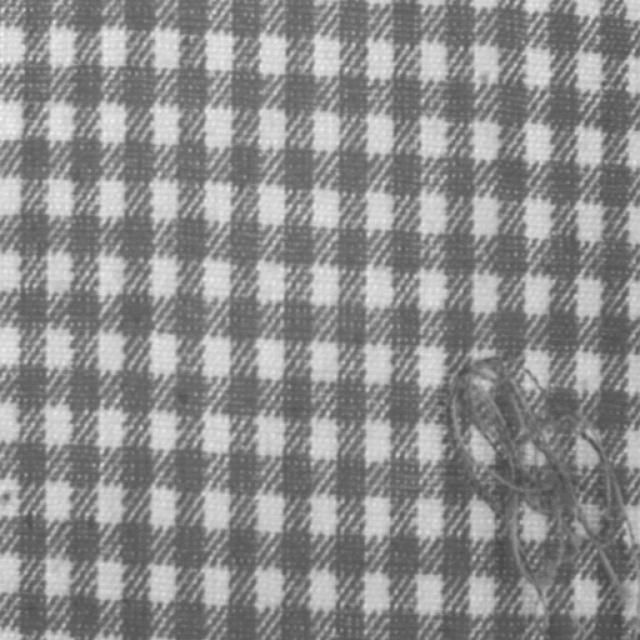Foreign-Body-Defect: (449, 356, 639, 639)
